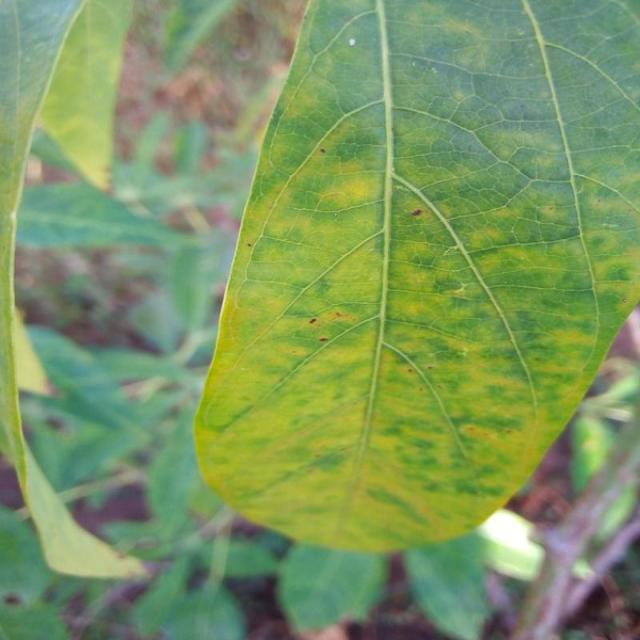cassava leaf: (192, 0, 638, 556)
